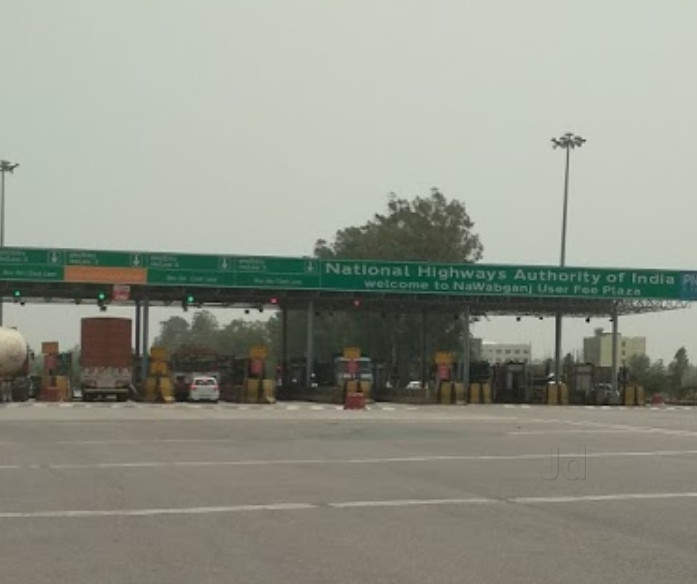toll plaza: (21, 230, 694, 407)
